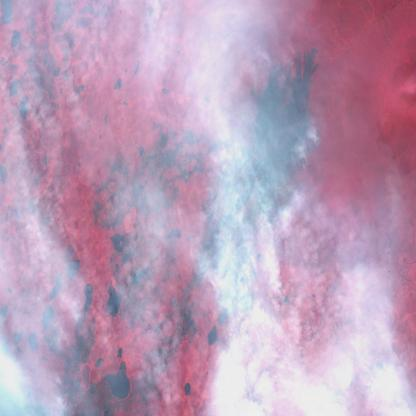fire: (194, 40, 327, 326), (30, 293, 96, 416)
